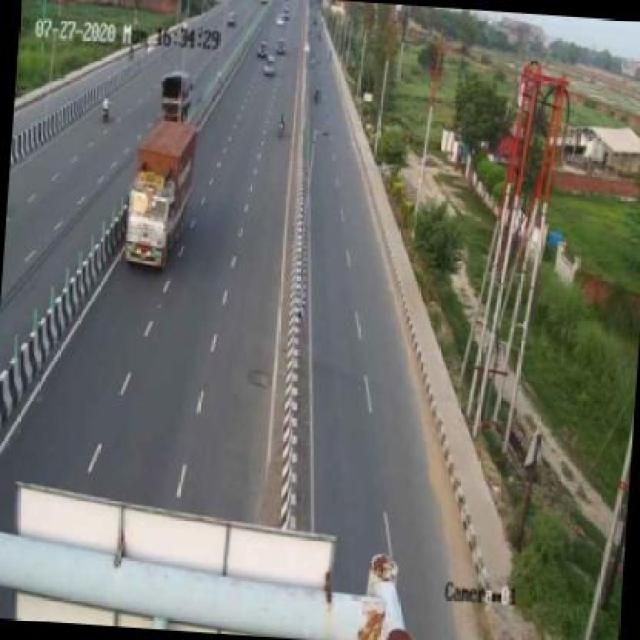car: (257, 54, 285, 86), (264, 40, 296, 65), (246, 36, 274, 61)
